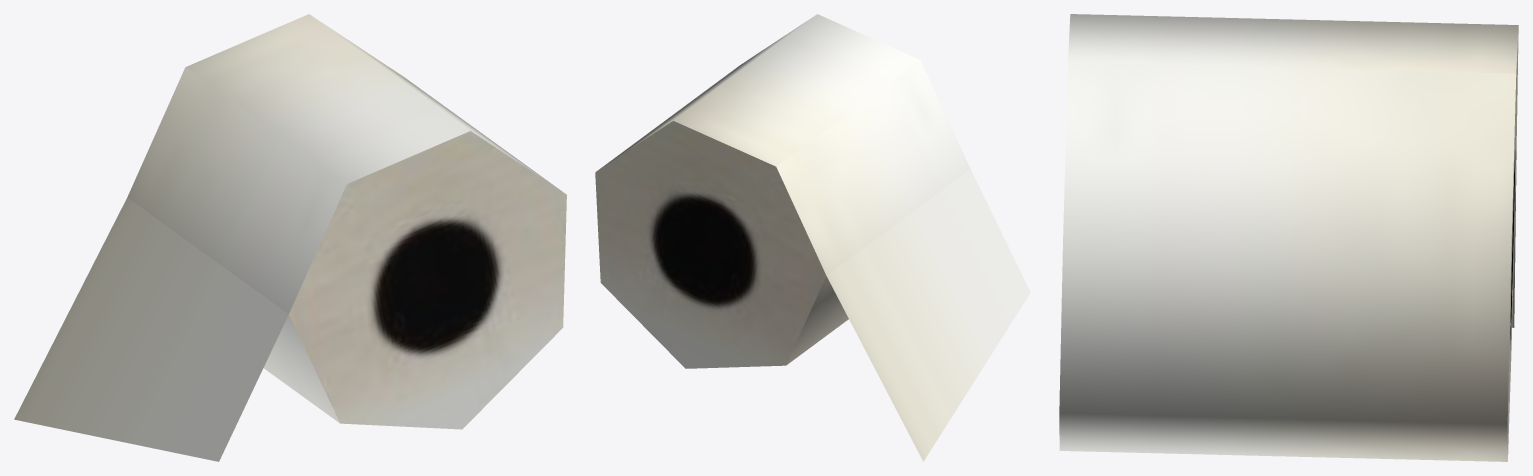
3 renders of one model, left to right at view 1: azimuth 30°, elevation 25°; view 2: azimuth 150°, elevation 25°; view 3: azimuth 270°, elevation 25°, orthographic. The views are drawn at different scales.
Visible parts, largest first — view 1: Toilet_paper_01001_Hygiene001_0; view 2: Toilet_paper_01001_Hygiene001_0; view 3: Toilet_paper_01001_Hygiene001_0.
Part boxes in pixels (x1=…): Toilet_paper_01001_Hygiene001_0: x1=14, y1=14, x2=566, y2=461; Toilet_paper_01001_Hygiene001_0: x1=595, y1=14, x2=1030, y2=461; Toilet_paper_01001_Hygiene001_0: x1=1059, y1=14, x2=1518, y2=461.
Size of the model in its own units: 0.1988 by 0.165 by 0.1503.
1 material, 1 textured.
